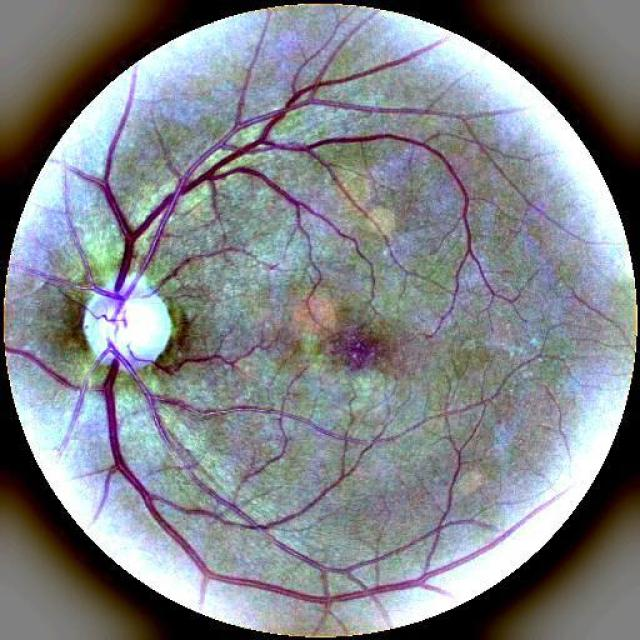Macula: (329, 328, 384, 370)
Nerves: (101, 336, 557, 611), (49, 37, 484, 310)
Optic Disk: (82, 274, 172, 369)
